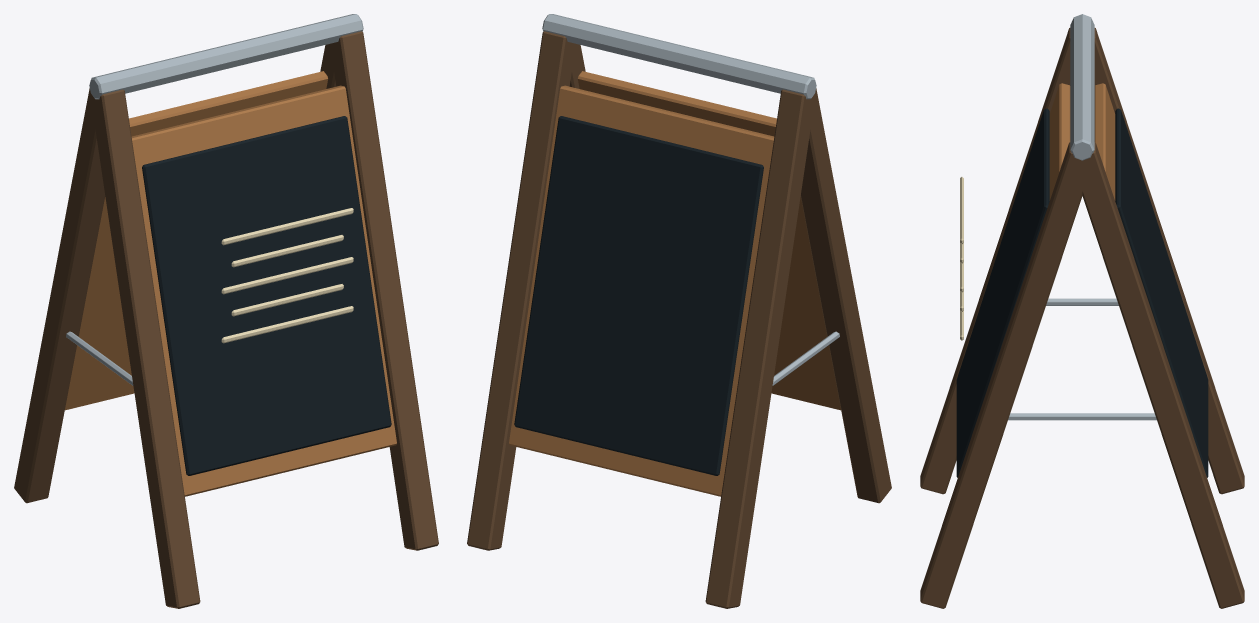
File: b10_chalkboard_sandwich_a_frame.glb
3 views of the same model, side by side, from view 1: azimuth 30°, elevation 25°; view 2: azimuth 150°, elevation 25°; view 3: azimuth 270°, elevation 25° (orthographic).
Parts seen in each view (by area): view 1: b10_chalkboard_sandwich_a_frame; view 2: b10_chalkboard_sandwich_a_frame; view 3: b10_chalkboard_sandwich_a_frame.
Boxes of the visible parts, <box> form: b10_chalkboard_sandwich_a_frame: <box>14,14,438,608</box>; b10_chalkboard_sandwich_a_frame: <box>467,14,891,608</box>; b10_chalkboard_sandwich_a_frame: <box>920,14,1244,608</box>.
Size of the model in its own units: 0.62 by 1.07 by 0.6704.
